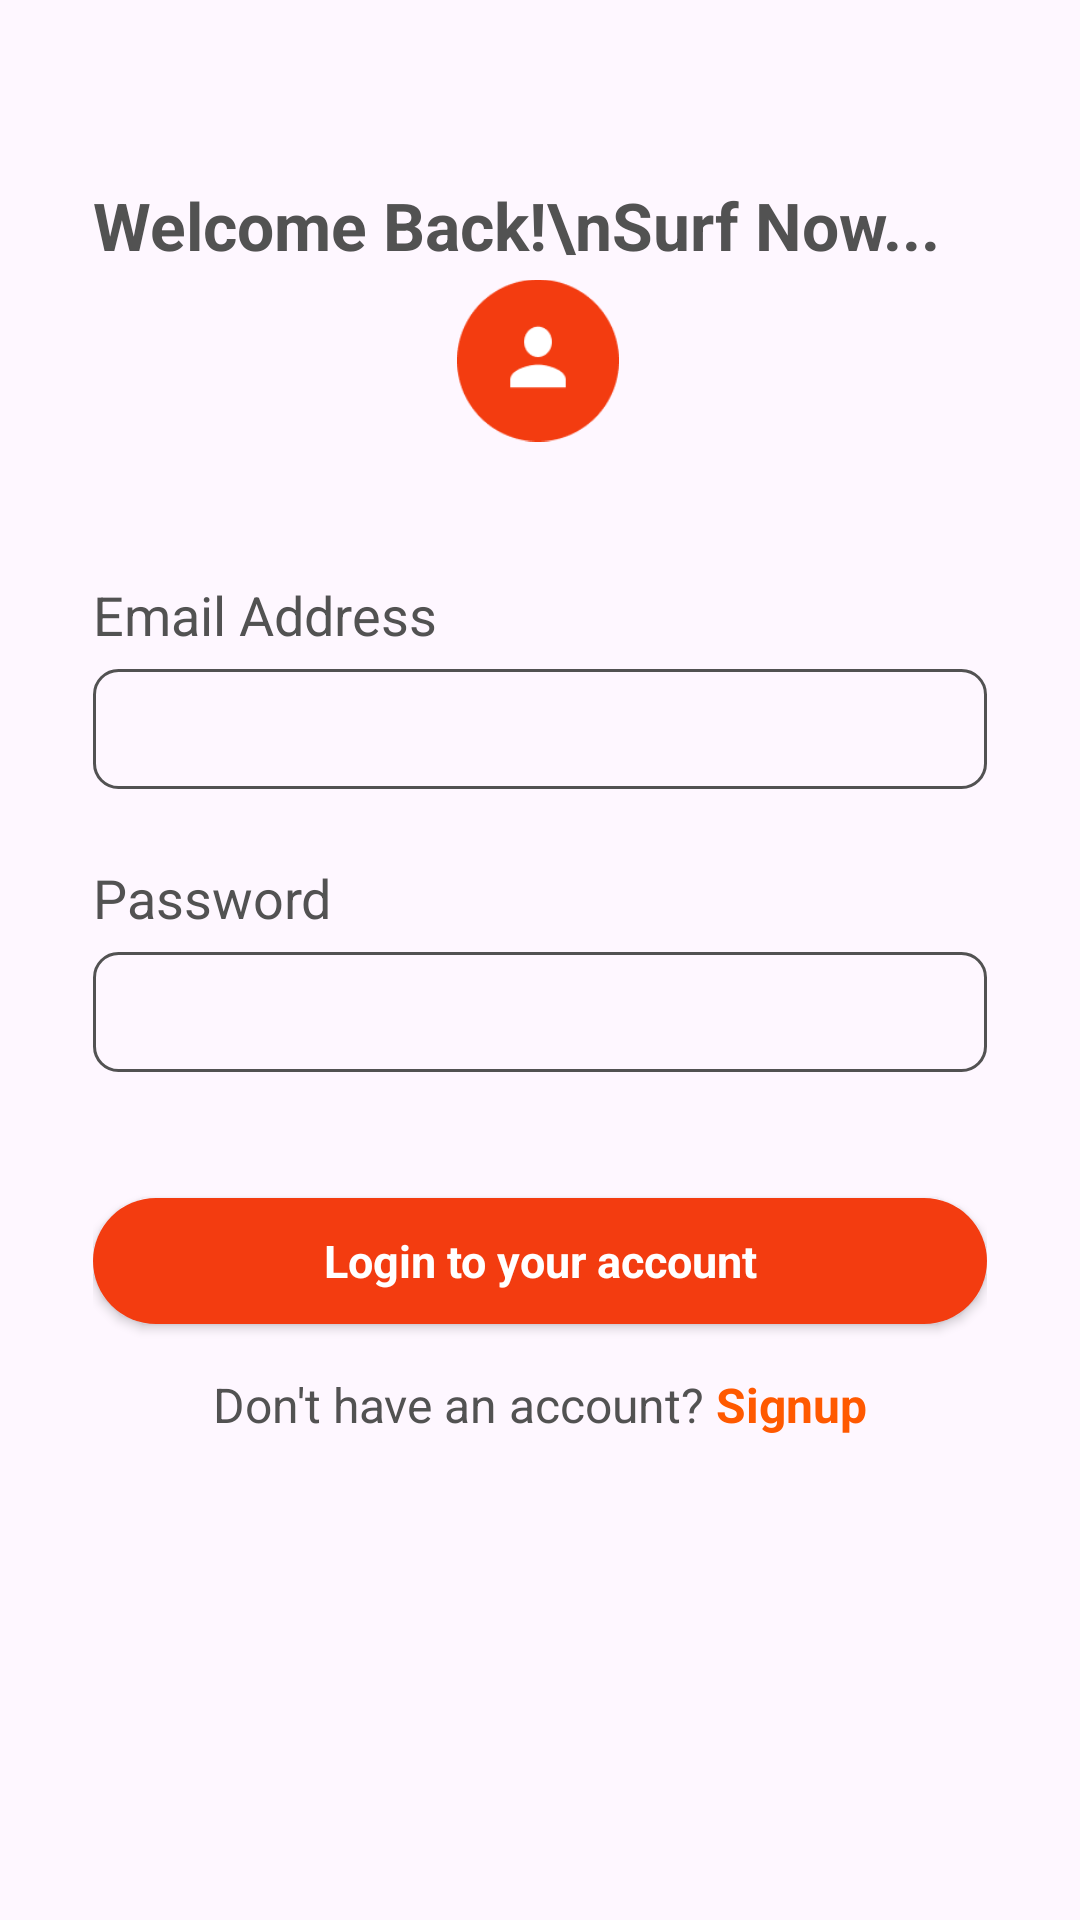

Screen size 1080x1920. Icon name, then its box in pixels as [x1=x1, y1=y1, x2=x2, y2=y2]:
user: [x1=457, y1=280, x2=619, y2=442]
